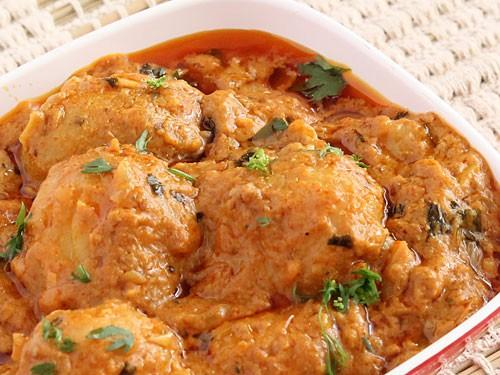DumAloo: (0, 29, 500, 375)
